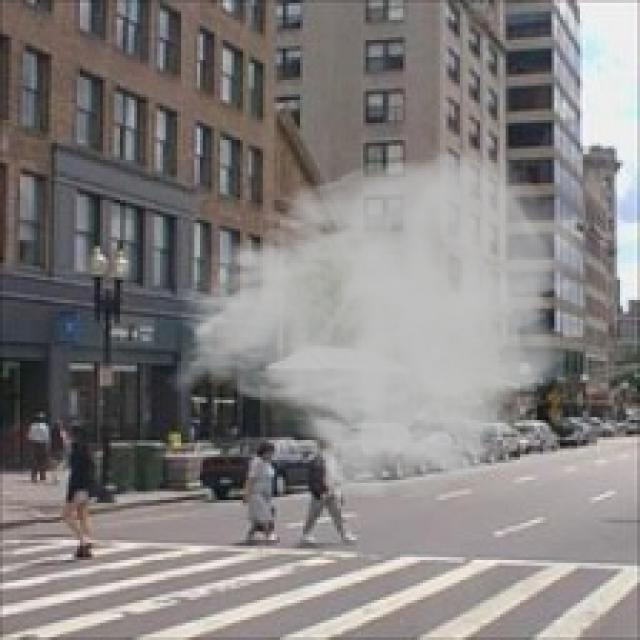smoke: (163, 146, 586, 503)
